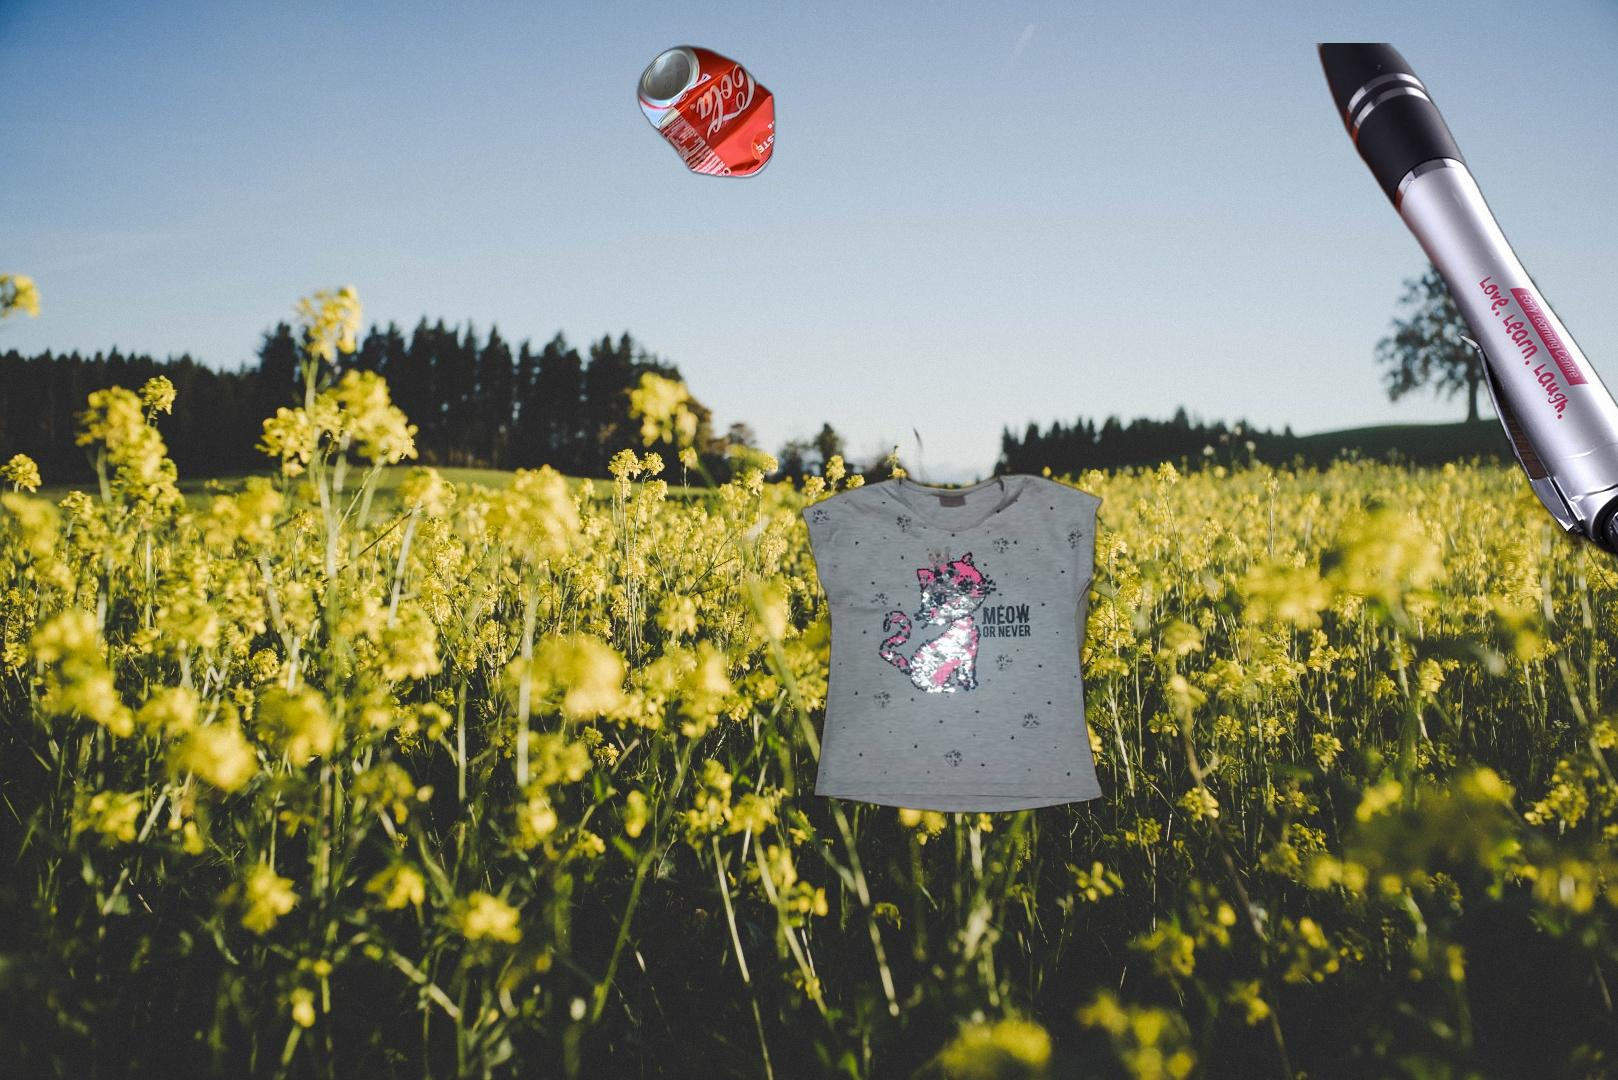clothes: (799, 413, 1106, 818)
metal-cans: (633, 40, 779, 184)
penholder: (1311, 43, 1618, 793)
